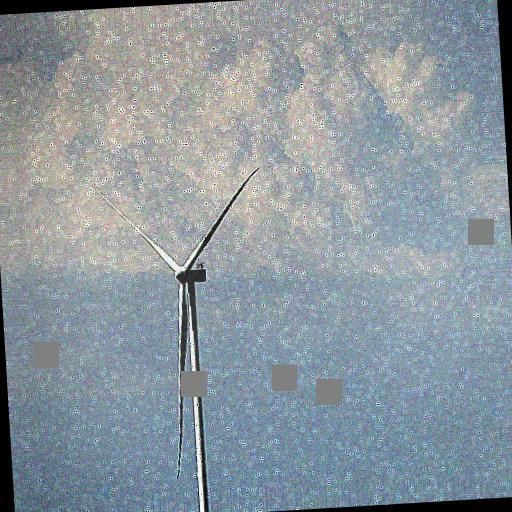wind turbine: (96, 163, 264, 511)
